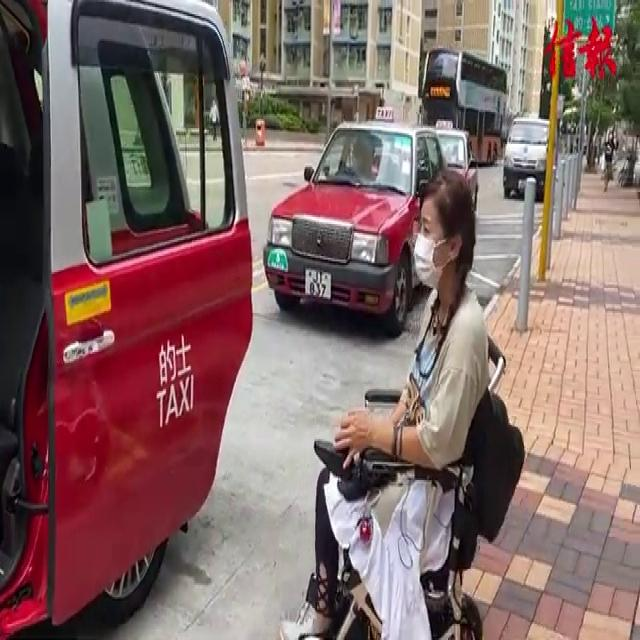wheelchairs: (291, 308, 528, 640)
